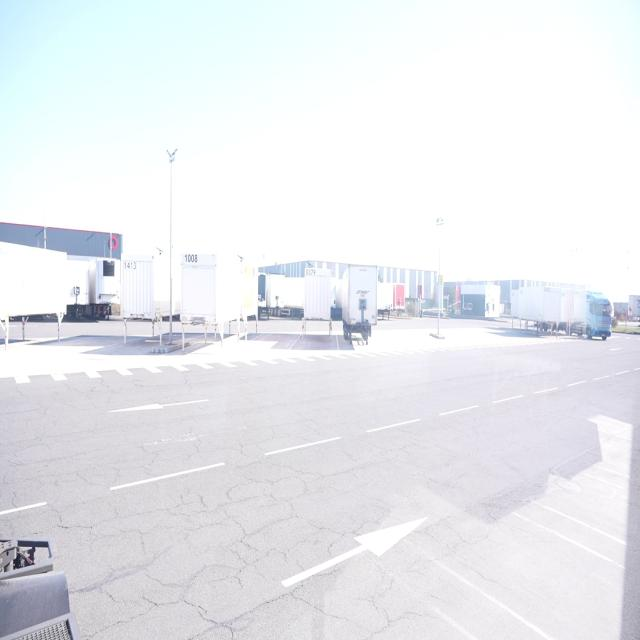Code: (182, 247, 201, 269), (120, 259, 140, 278), (306, 266, 316, 278)
